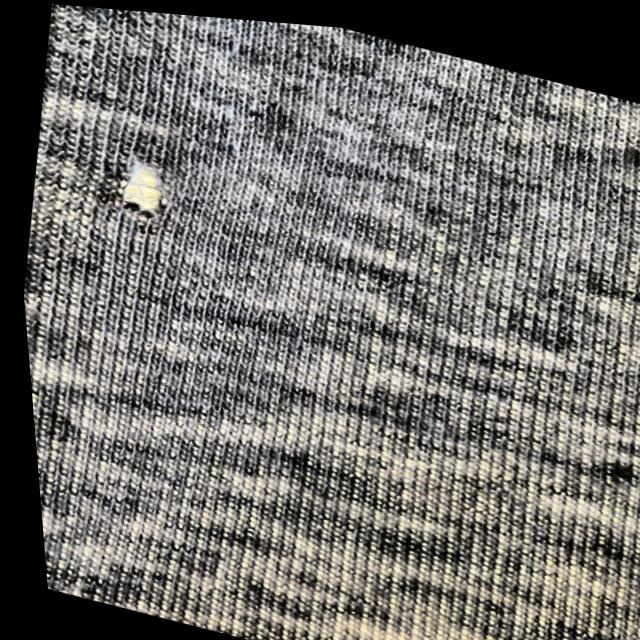Hole: (90, 138, 194, 241)
